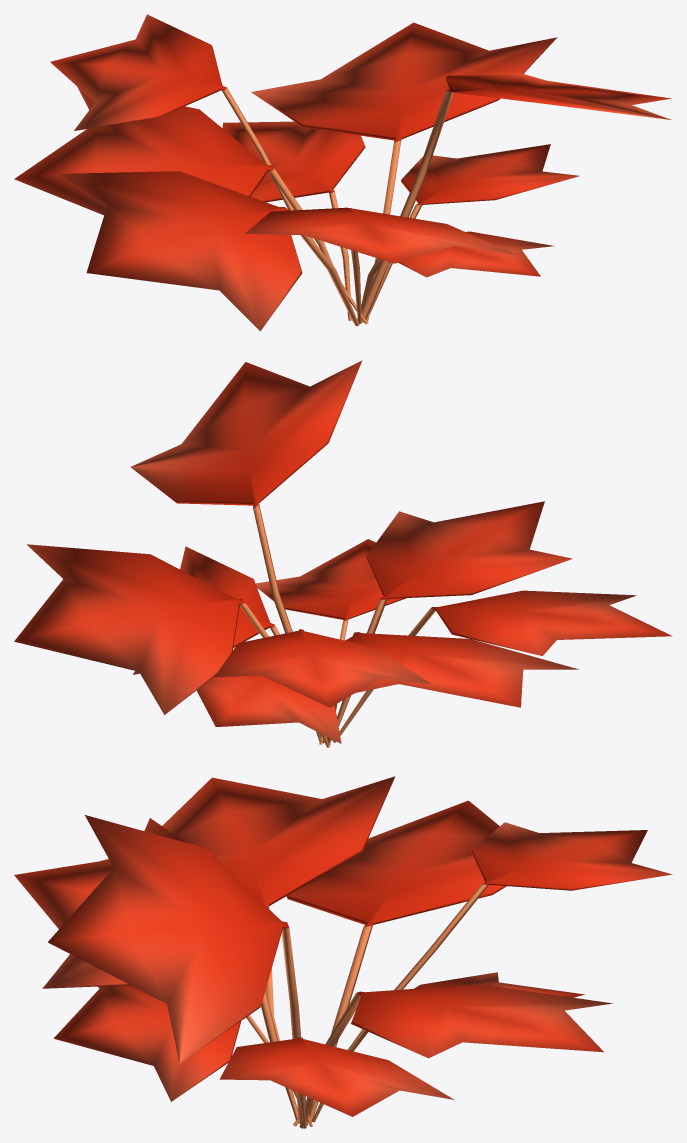
3 renders of one model, top to bottom at view 1: azimuth 30°, elevation 25°; view 2: azimuth 150°, elevation 25°; view 3: azimuth 270°, elevation 25°, orthographic. The views are drawn at different scales.
Visible parts, largest first — view 1: fp26; view 2: fp26; view 3: fp26.
Part boxes in pixels (left/top/right/bottom): fp26: left=14, top=14, right=671, bottom=331; fp26: left=14, top=360, right=672, bottom=747; fp26: left=14, top=776, right=672, bottom=1128.
Bounding box in the file's own units: 93.72 × 47.99 × 83.39.
